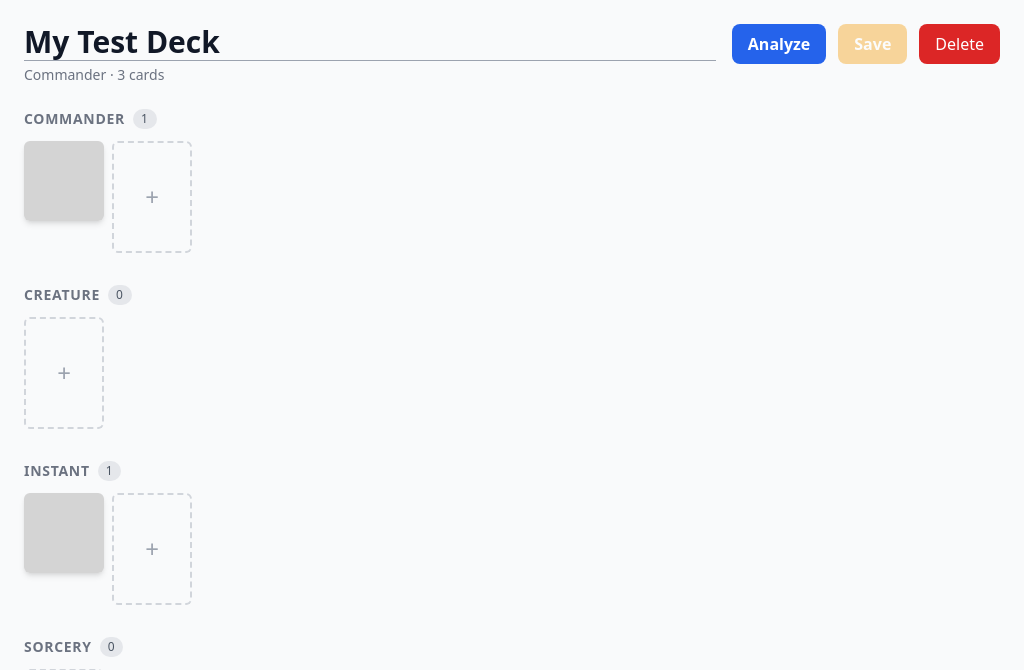
DeckDetailPage › shows error and preserves edits when Save fails
Step 1. Replace the text in the field named "Deck name" with "Renamed Deck" → (370, 42), box [24,24,716,61]
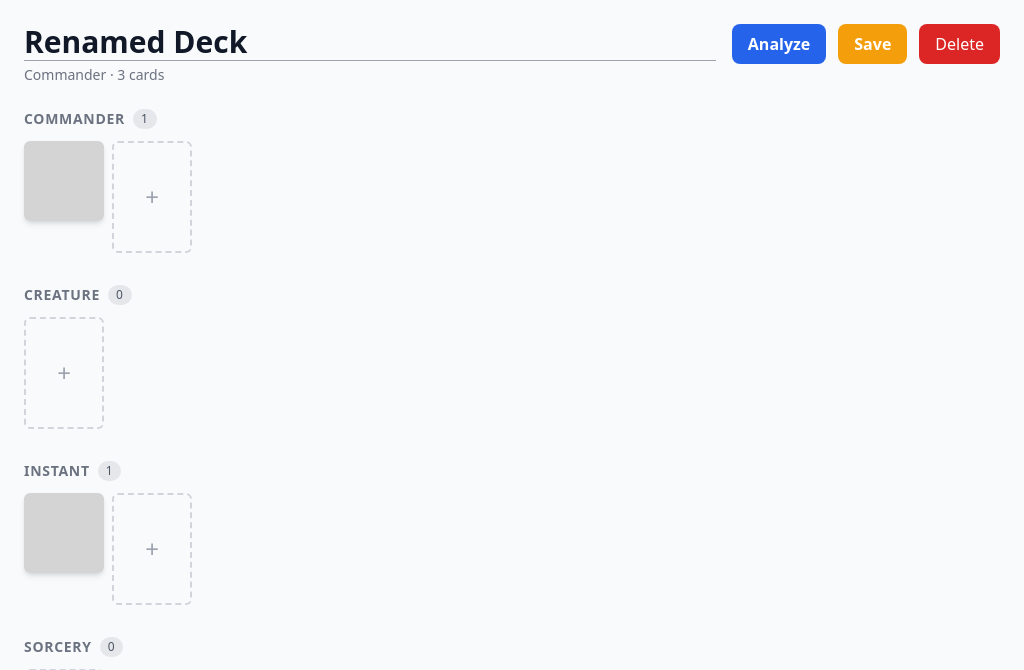
Step 2. Click the button "Save" → (873, 44), box [838,24,907,64]
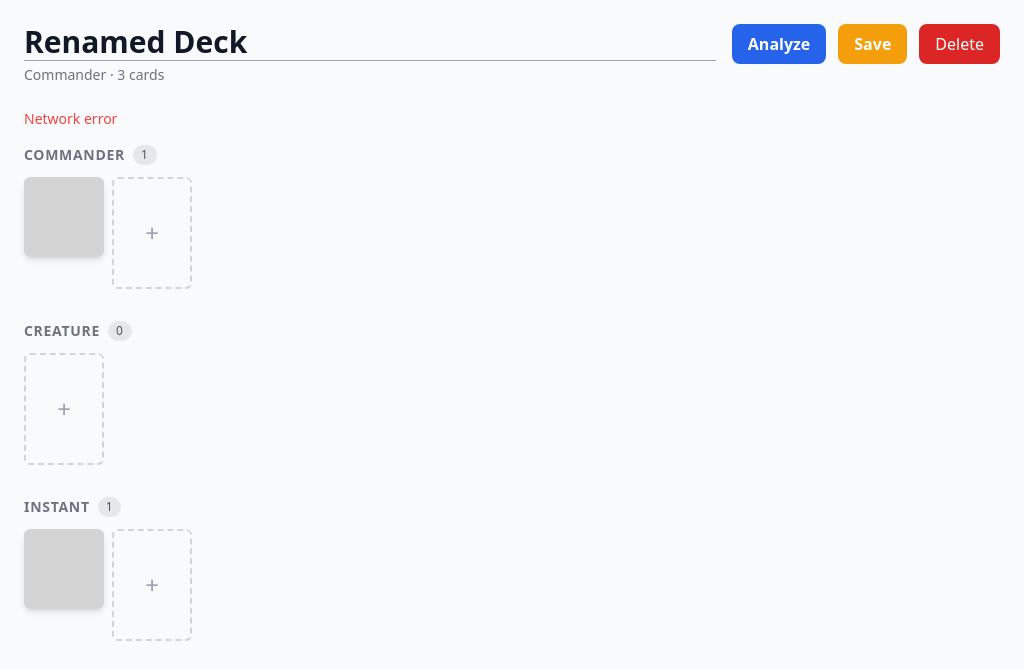
Expected: the text "Network error" is shown, [24,109,117,128]
